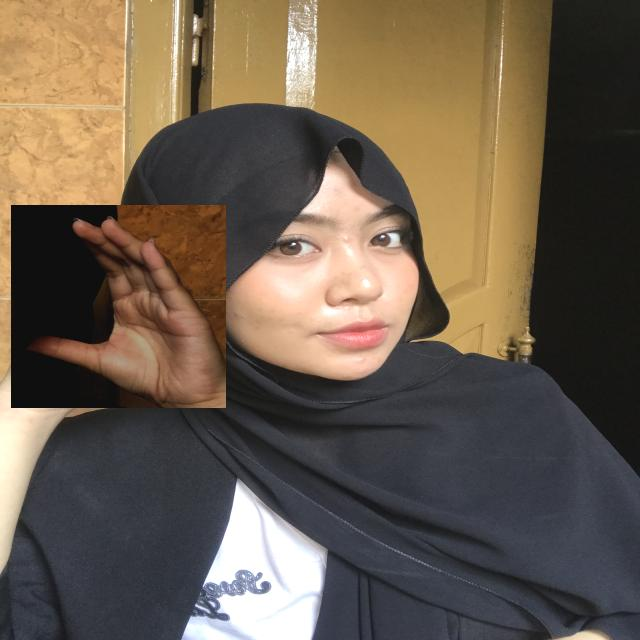mendengar: (11, 205, 226, 408)
